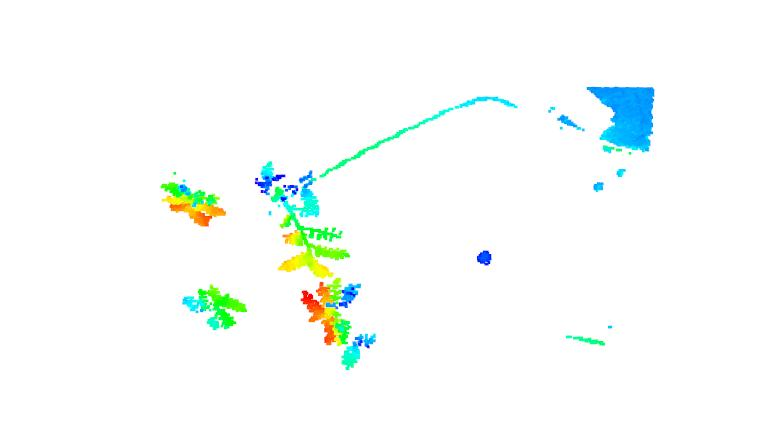chickpea: (253, 161, 352, 279), (299, 276, 375, 368), (181, 284, 250, 334), (158, 178, 228, 227)
